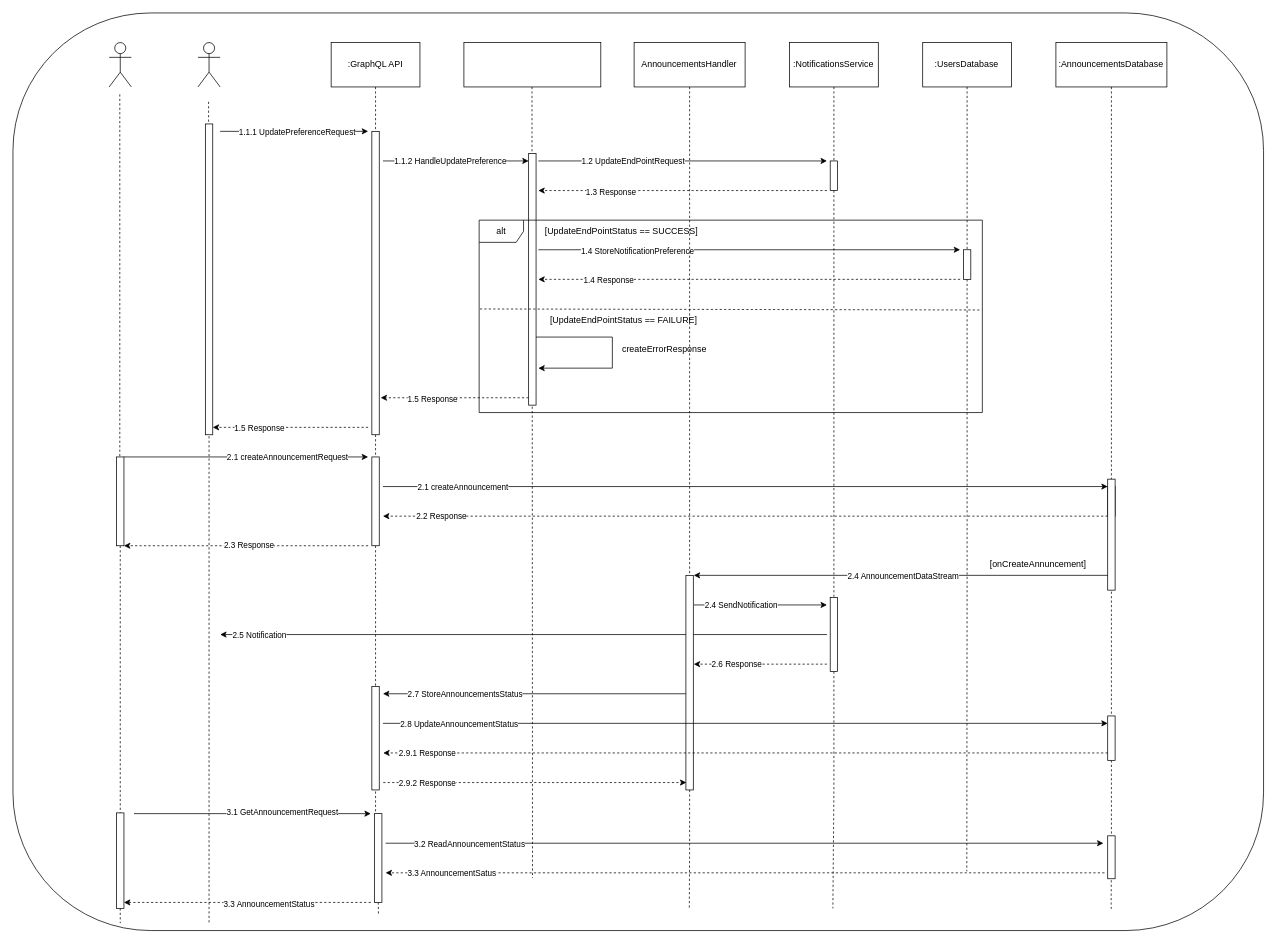
Image size: 1277x944. Some labels were removed from this diagram. The shapes that lost their labels are listed below. From the top down, each one's centre as x and y in pixels, then its label:
At (119,64): "Lecturer".
At (208,64): "Student".
At (532,64): ":NotificationsPreferenceHandler".
